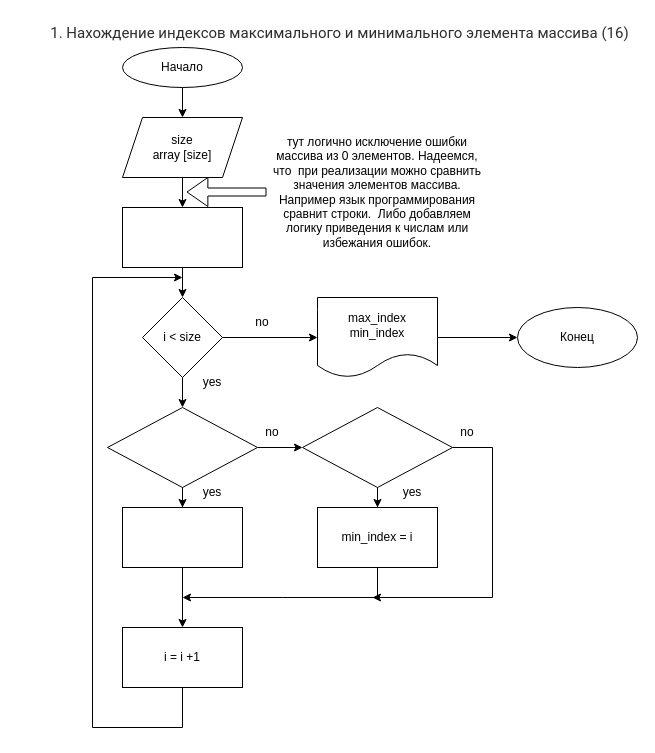
Image size: 655x753. Some labels were removed from this diagram. The shapes that lost their labels are listed below. From the top down, each one's centre as x and y in pixels, then its label:
At point 182,237: "i = 1 max_index = 0 min_index = 0".
At point 182,447: "array[i] > array[max_index}".
At point 377,447: "array[i] < array[min_index}".
At point 182,537: "max_index = i".
